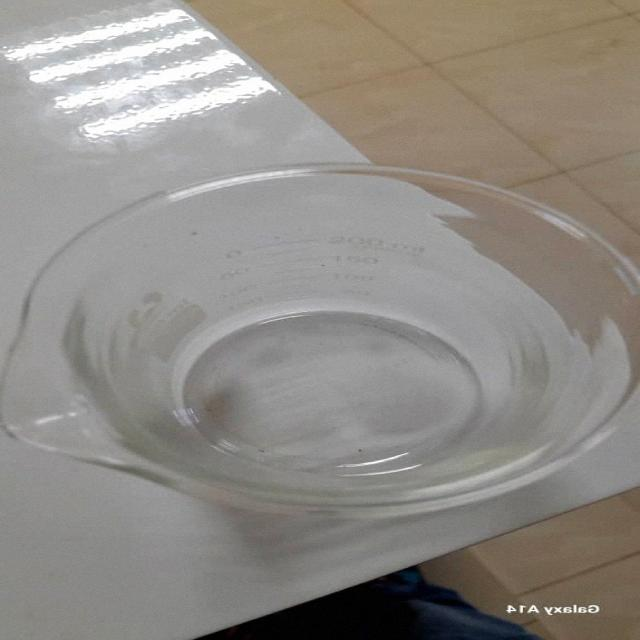Beakers: (0, 169, 631, 508)
